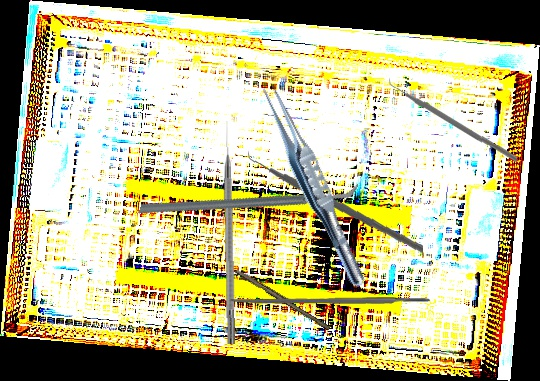Chopper: (138, 116, 359, 281), (246, 127, 424, 266), (389, 68, 517, 165)
Hook Surgical: (222, 120, 237, 345)
Scalpel Handle: (233, 267, 333, 331), (230, 297, 432, 305)
Tissue Forceps: (250, 76, 377, 292)
